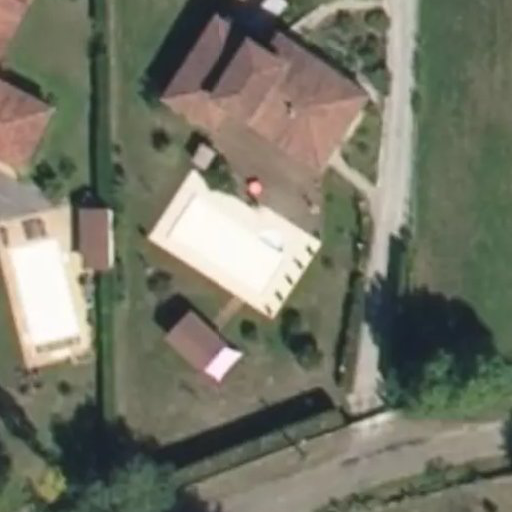pool: (192, 233, 320, 239)
